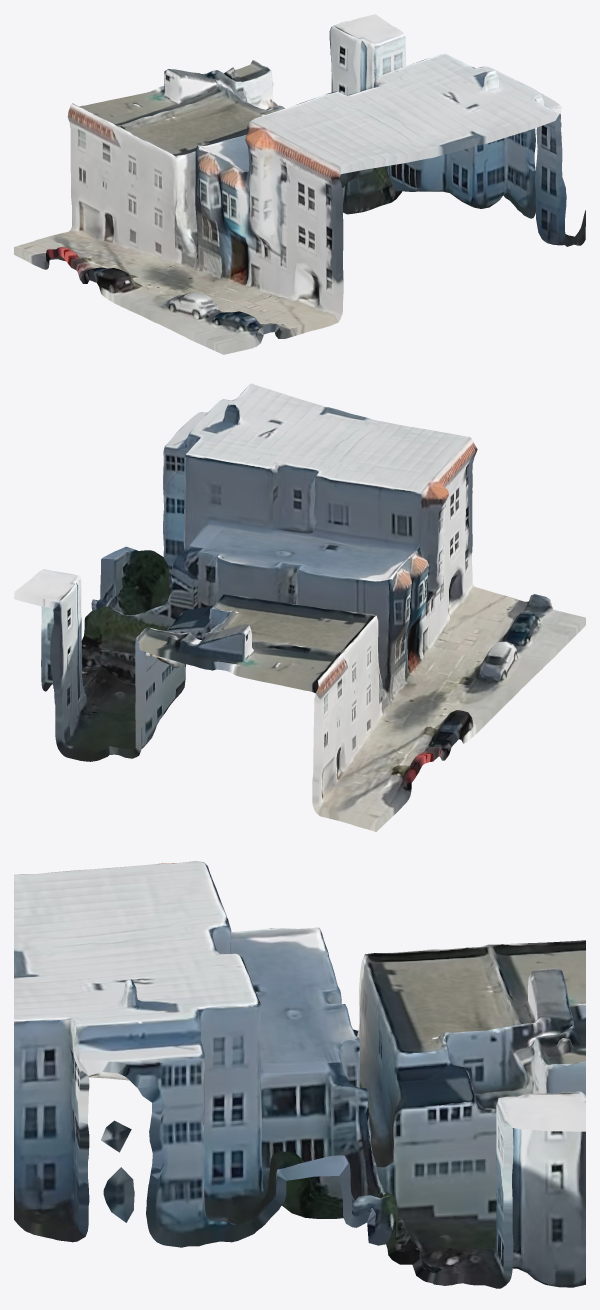
File: z20-167740-405195-h0-yup-uvflip-v3-world.glb
3 views of the same model, one above another, from view 1: azimuth 30°, elevation 25°; view 2: azimuth 150°, elevation 25°; view 3: azimuth 270°, elevation 25° (orthographic). The views are drawn at different scales.
Size of the model in its own units: 30.2 by 18.4 by 30.32.
Materials: 1 (1 with a texture image).
